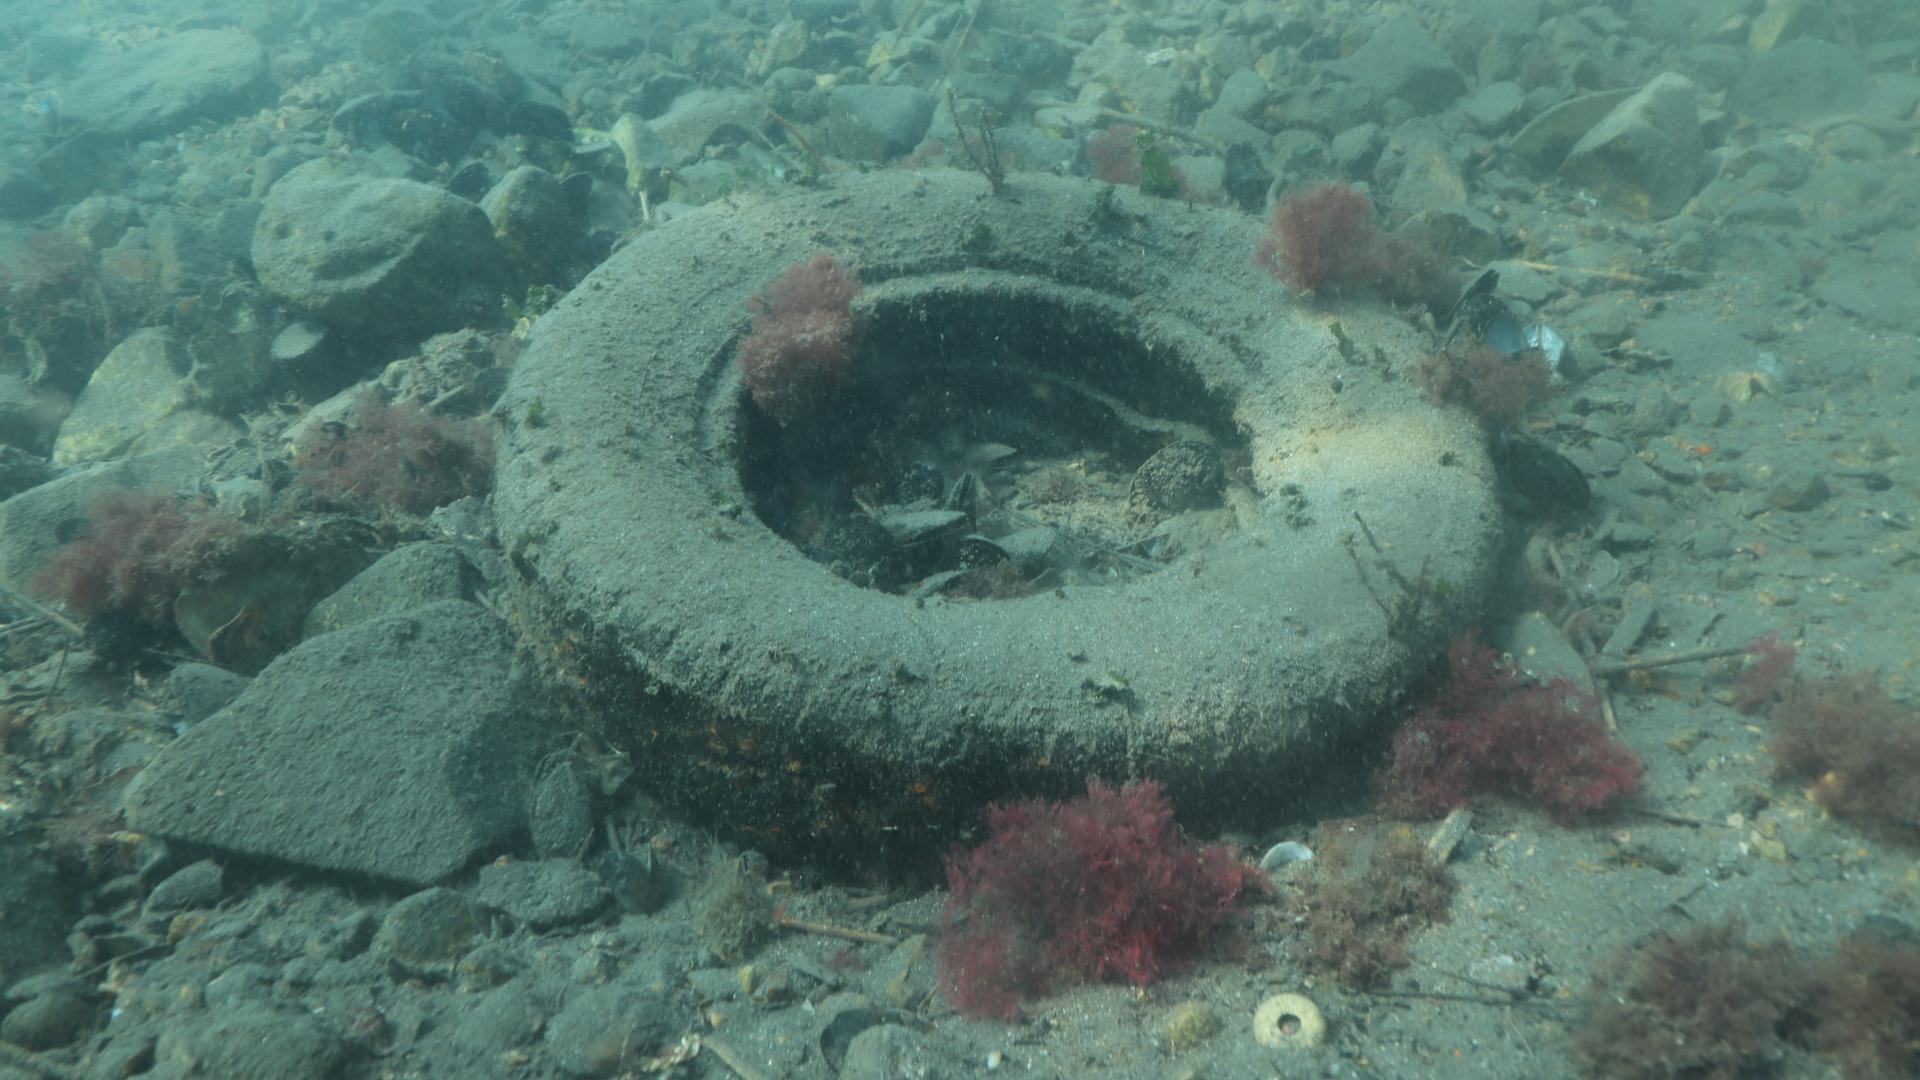tire: (492, 161, 1505, 887)
